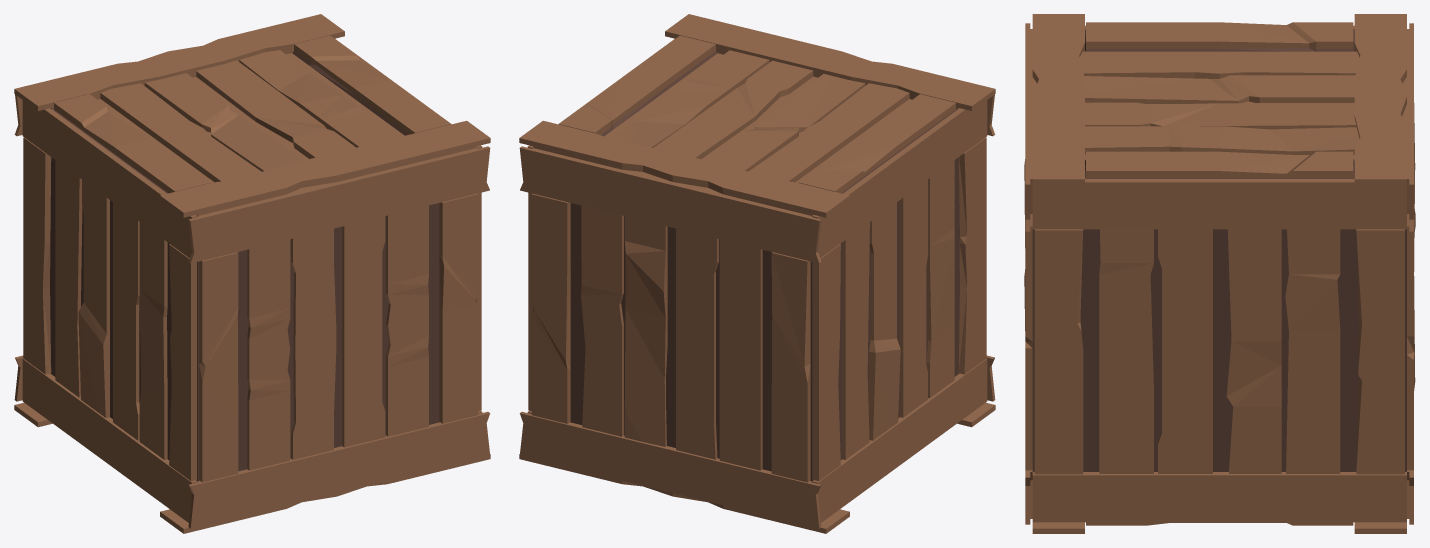
File: Crate.obj
3 views of the same model, side by side, from view 1: azimuth 30°, elevation 25°; view 2: azimuth 150°, elevation 25°; view 3: azimuth 270°, elevation 25° (orthographic). The views are drawn at different scales.
Size of the model in its own units: 1 by 1 by 1.
